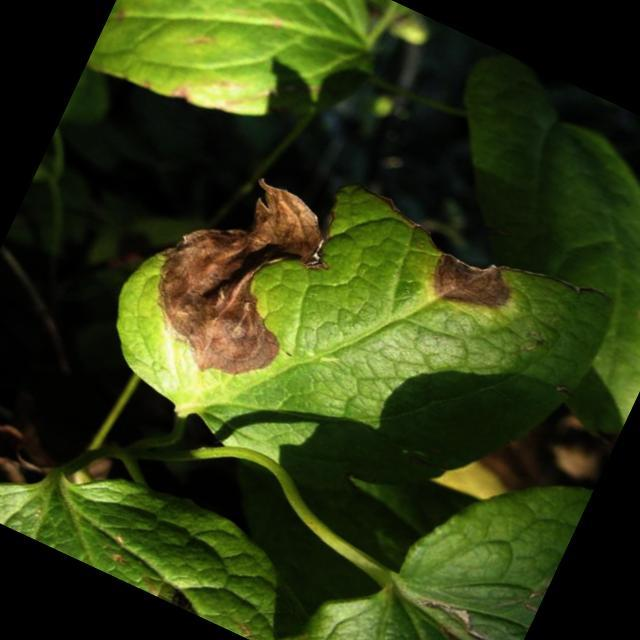Tomato bacterial spot leaf: (75, 105, 626, 578), (83, 0, 404, 183)
